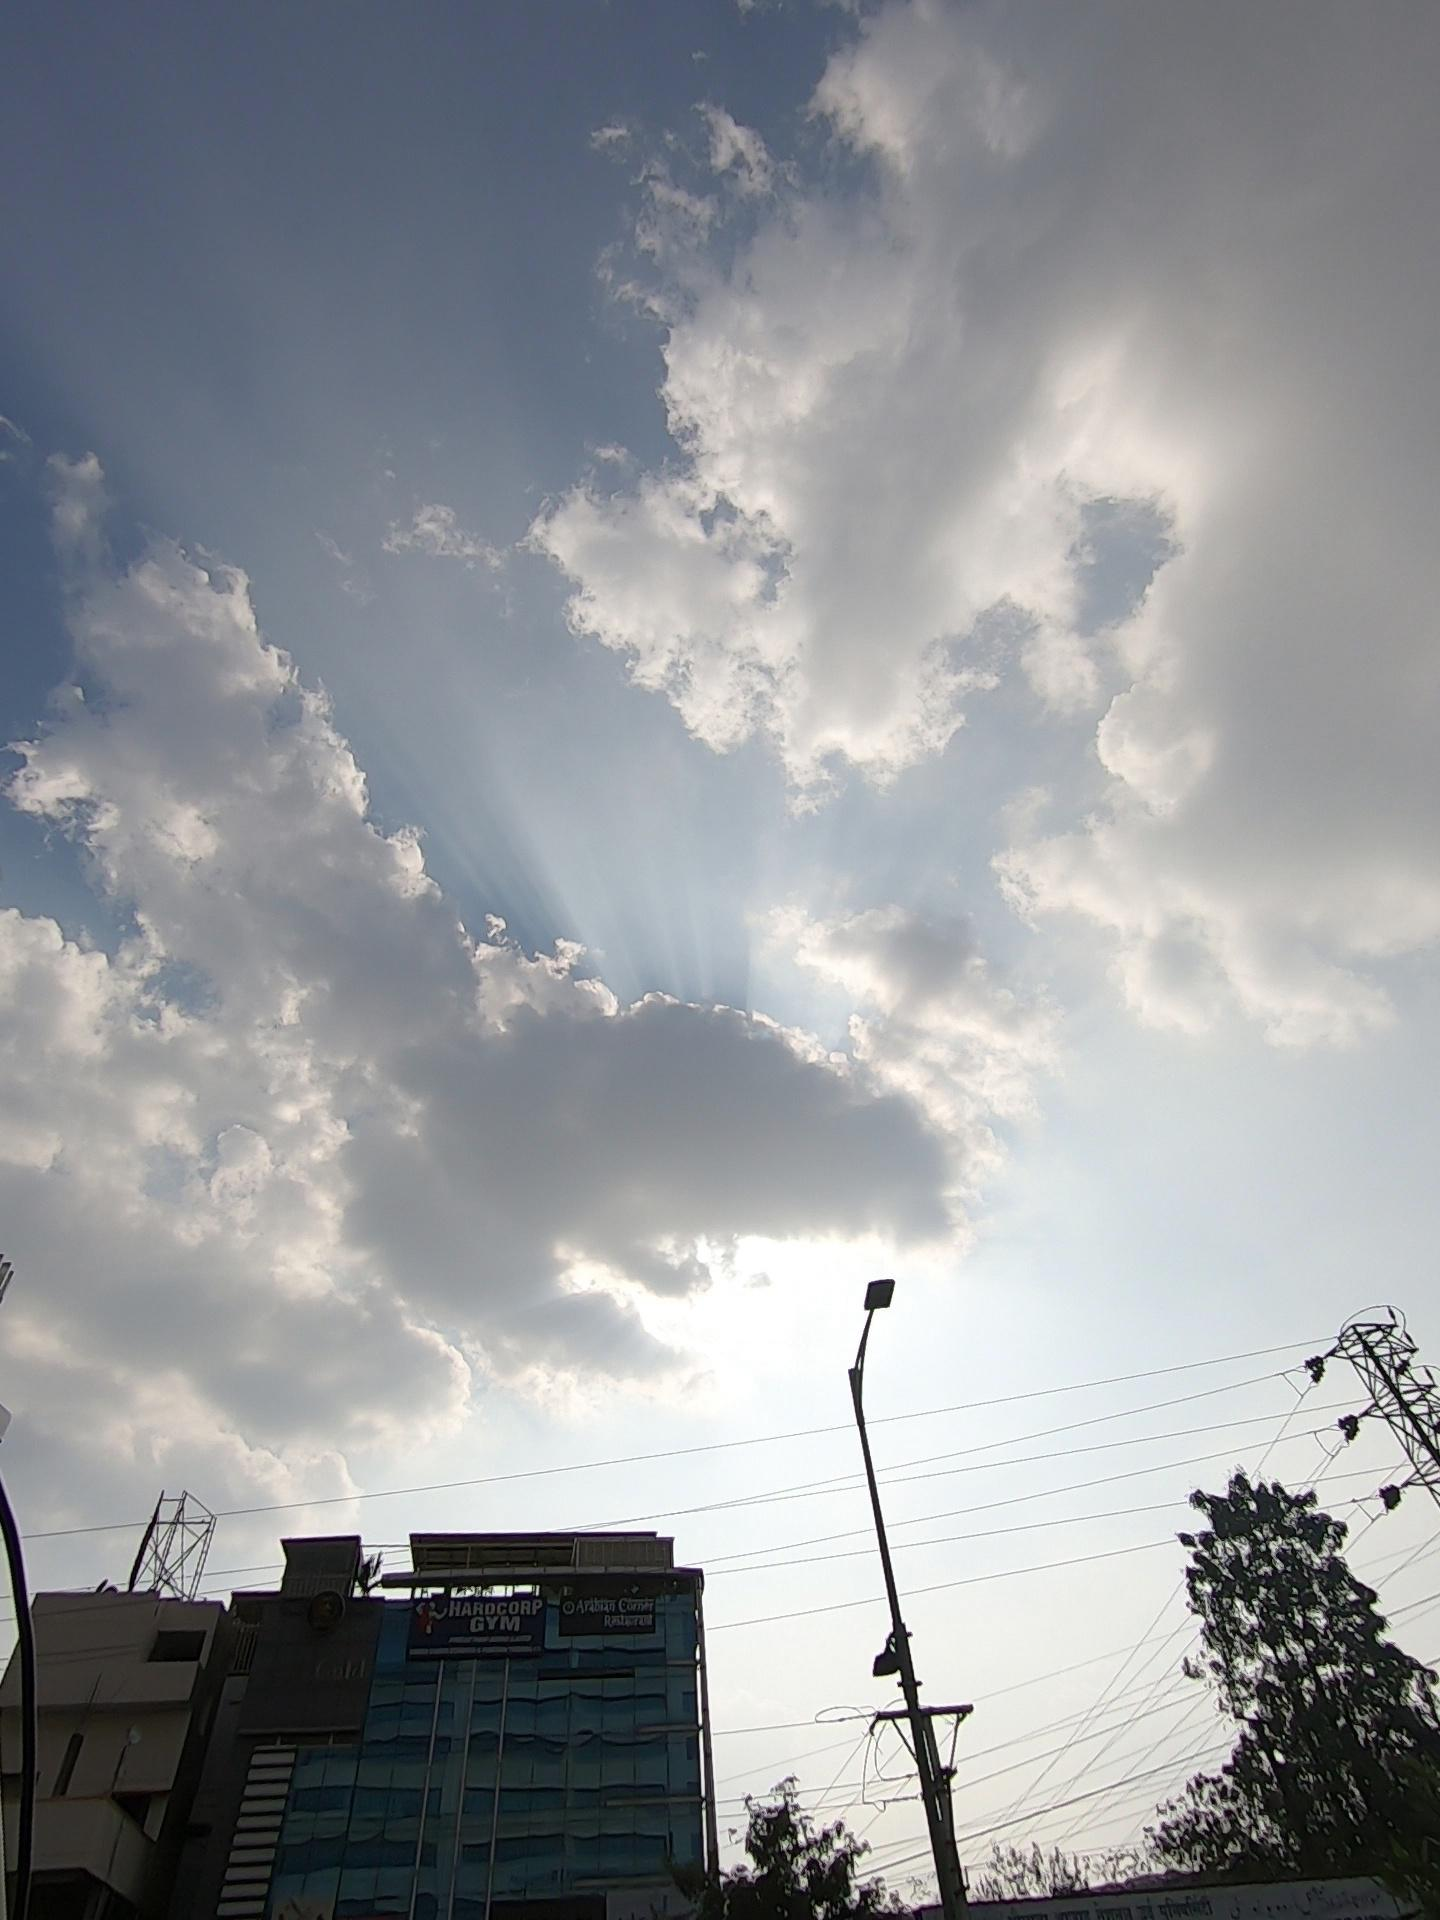off: (720, 1211, 968, 1720)
